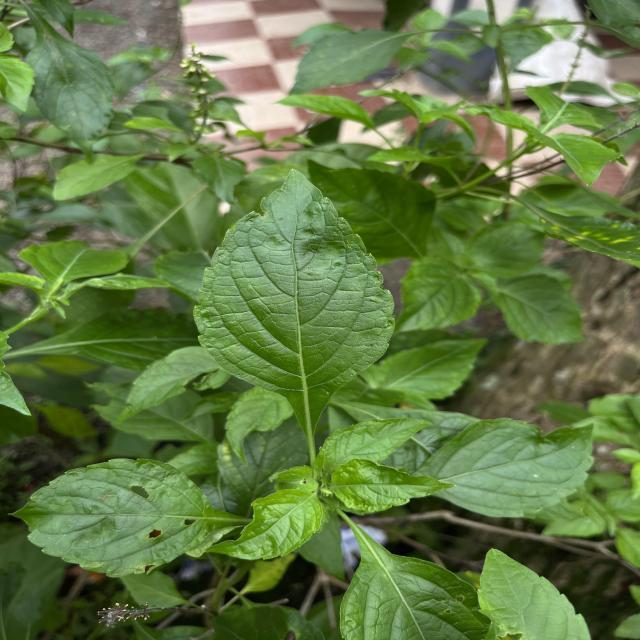Ocimum gratissimum: (188, 161, 398, 448), (3, 452, 244, 582), (336, 525, 489, 640), (329, 456, 458, 516)
